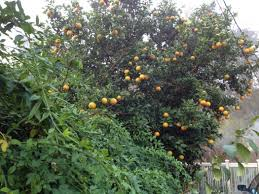orange: (87, 102, 96, 110), (110, 98, 117, 106), (154, 86, 162, 93), (189, 56, 196, 62)
